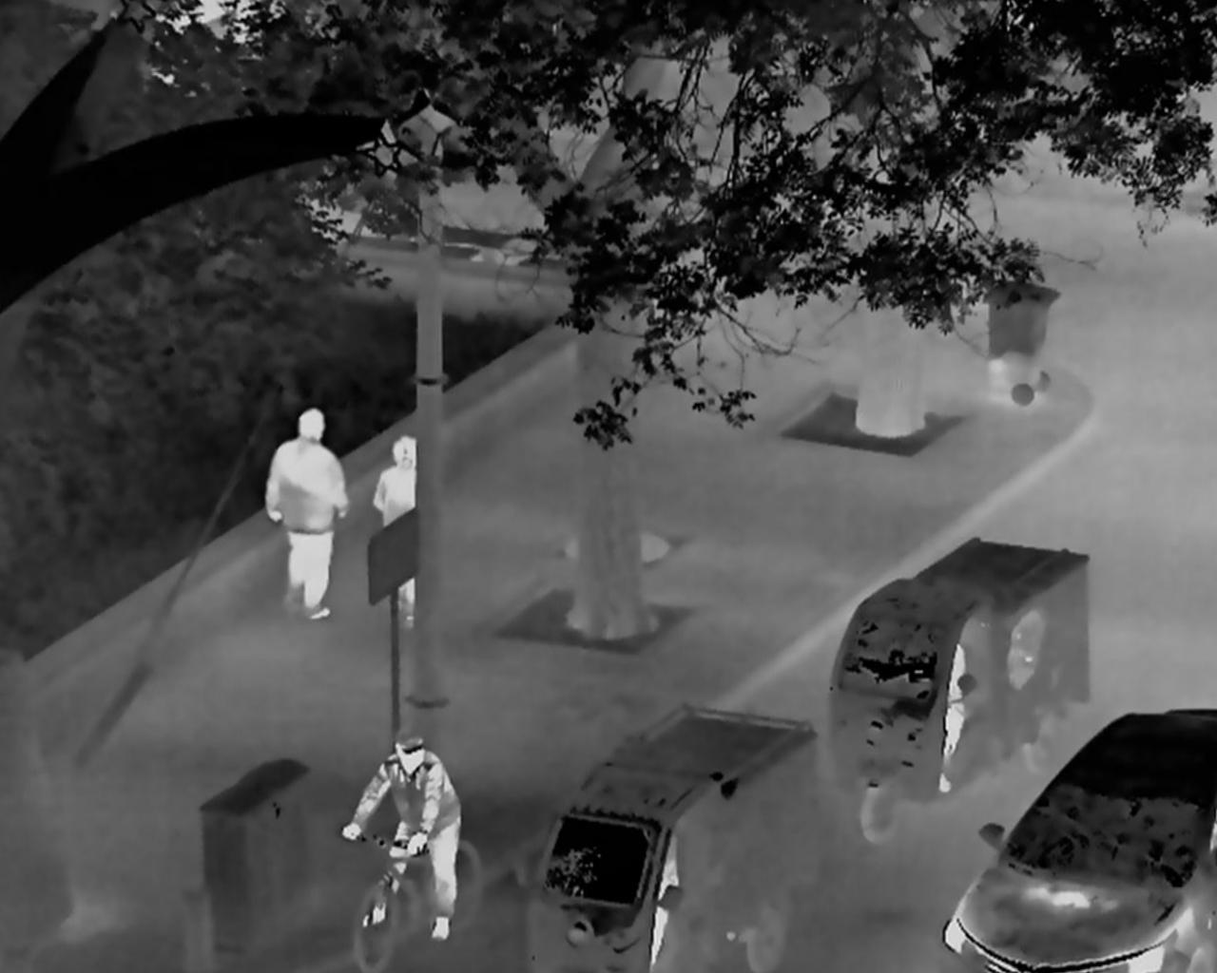person: (342, 726, 462, 942), (263, 408, 349, 620), (373, 434, 417, 629), (937, 641, 966, 793), (650, 830, 679, 969)
